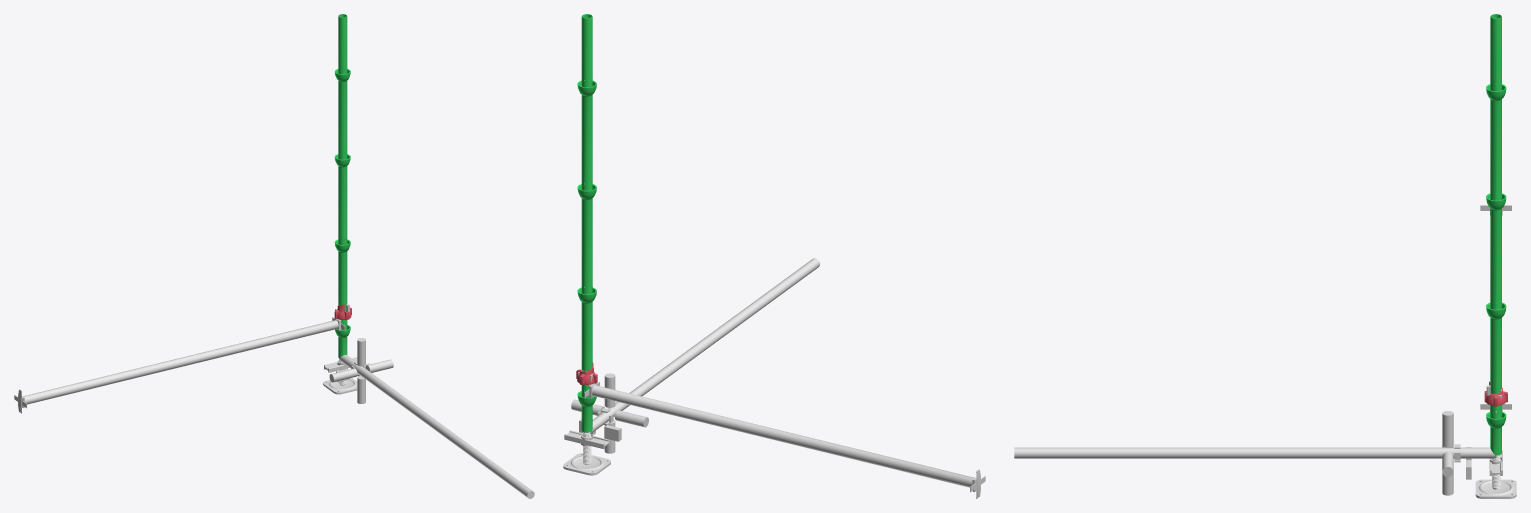
The model's file is scaffolding.fbx.
3 renders of one model, left to right at view 1: azimuth 30°, elevation 25°; view 2: azimuth 150°, elevation 25°; view 3: azimuth 270°, elevation 25°, orthographic. The views are drawn at different scales.
Visible parts, largest first — view 1: vertical_ledger, horizontal_ledger, Cylinder.008; view 2: vertical_ledger, horizontal_ledger, Cylinder.008, base_jack, wing_nut; view 3: Cylinder.008, vertical_ledger, base_jack.
Boxes of the visible parts, box(x1,y1,x2,y2) form: vertical_ledger: box(334, 14, 350, 358); horizontal_ledger: box(18, 318, 341, 413); Cylinder.008: box(339, 355, 534, 498); vertical_ledger: box(577, 14, 596, 432); horizontal_ledger: box(589, 383, 980, 498); Cylinder.008: box(590, 258, 819, 433); base_jack: box(563, 390, 610, 475); wing_nut: box(564, 430, 609, 448); Cylinder.008: box(1014, 447, 1496, 458); vertical_ledger: box(1486, 14, 1506, 455); base_jack: box(1475, 411, 1516, 498).
Size of the model in its own units: 2.17 by 2.18 by 2.09.
